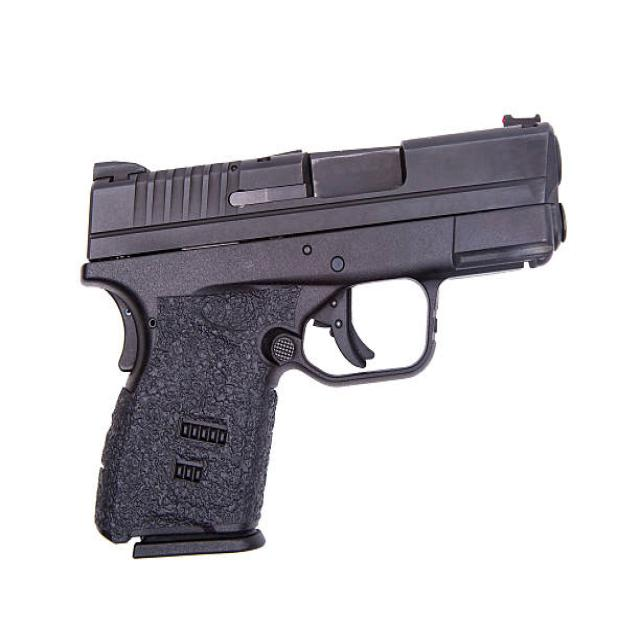pistol: (64, 110, 575, 567)
